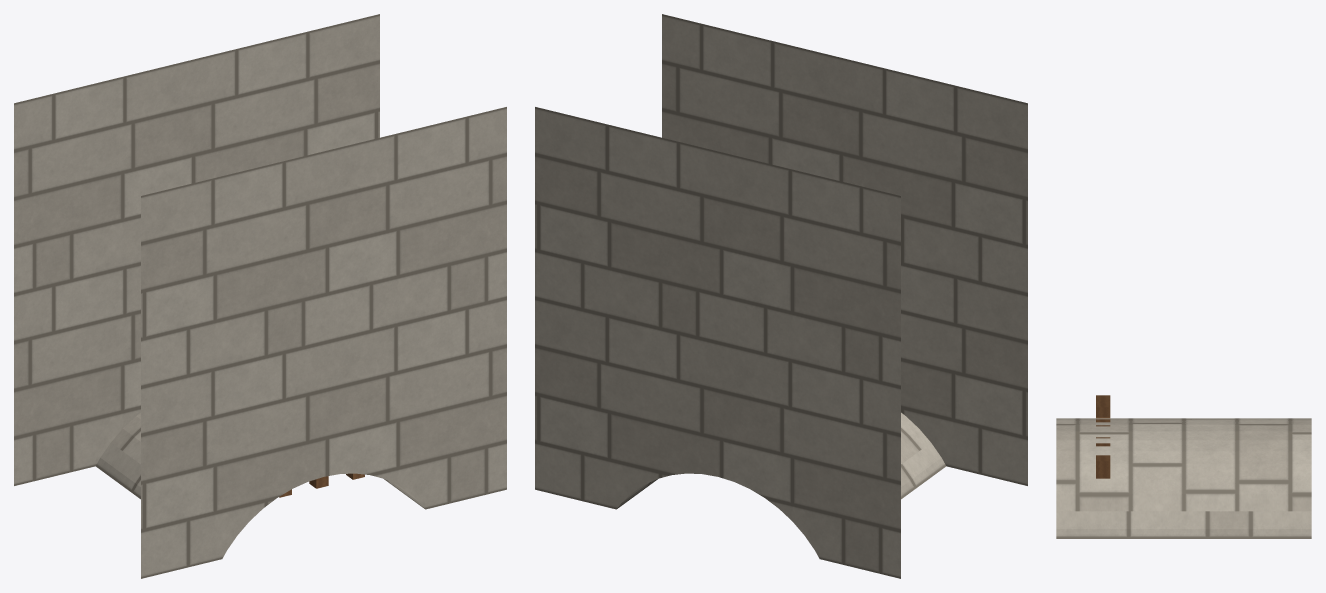
Rendered from Gate_TopMid.fbx.
3 views of the same model, side by side, from view 1: azimuth 30°, elevation 25°; view 2: azimuth 150°, elevation 25°; view 3: azimuth 270°, elevation 25° (orthographic).
Visible parts, largest first — view 1: Gate_TopMid; view 2: Gate_TopMid; view 3: Gate_TopMid.
Part boxes in pixels (x1,y1,x2,y2): Gate_TopMid: [14, 14, 506, 578]; Gate_TopMid: [535, 14, 1027, 578]; Gate_TopMid: [1056, 395, 1311, 538].
Size of the model in its own units: 3 by 3 by 1.8.
2 materials, 2 textured.
